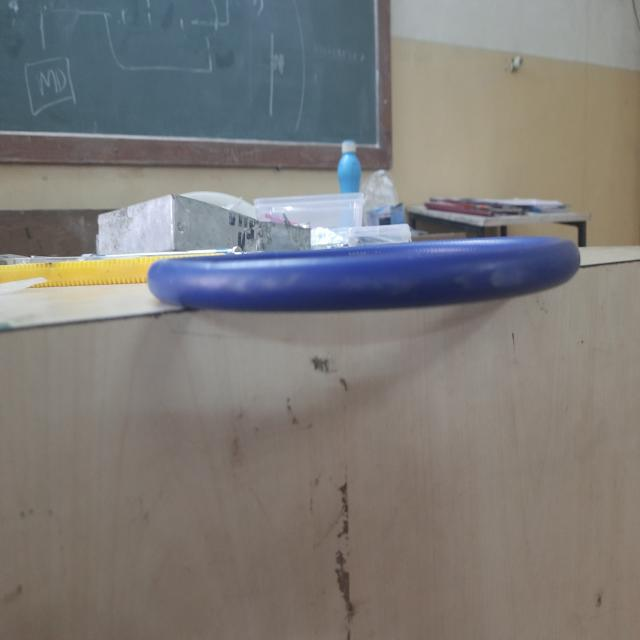daire: (145, 232, 587, 323)
